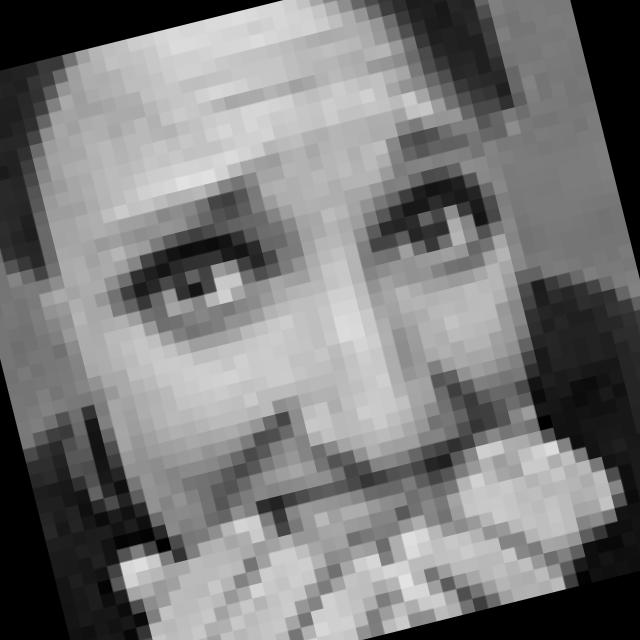fear: (84, 88, 578, 622)
